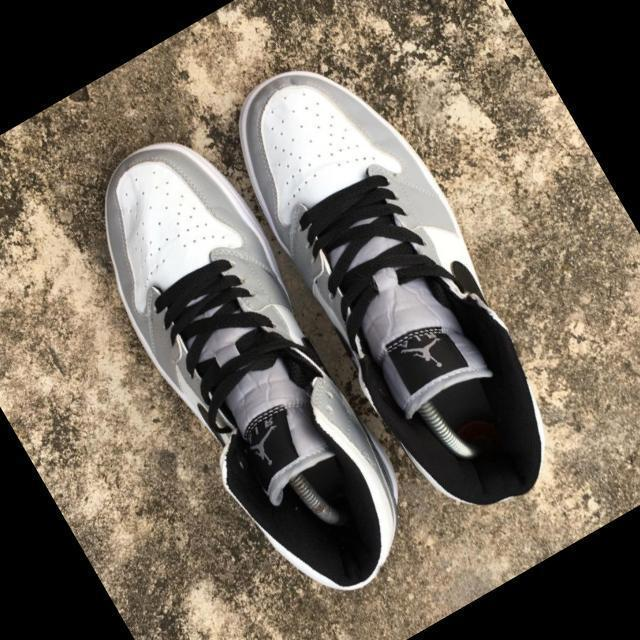nike fake jordan 1: (50, 107, 451, 626), (194, 24, 594, 538)
